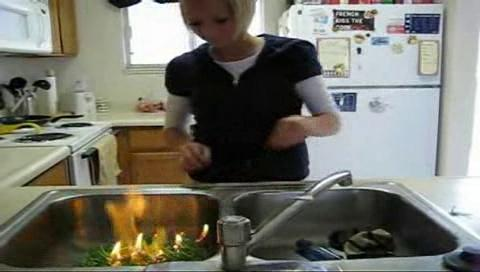fire: (102, 173, 180, 258)
